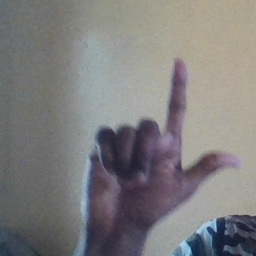L: (83, 56, 243, 231)
